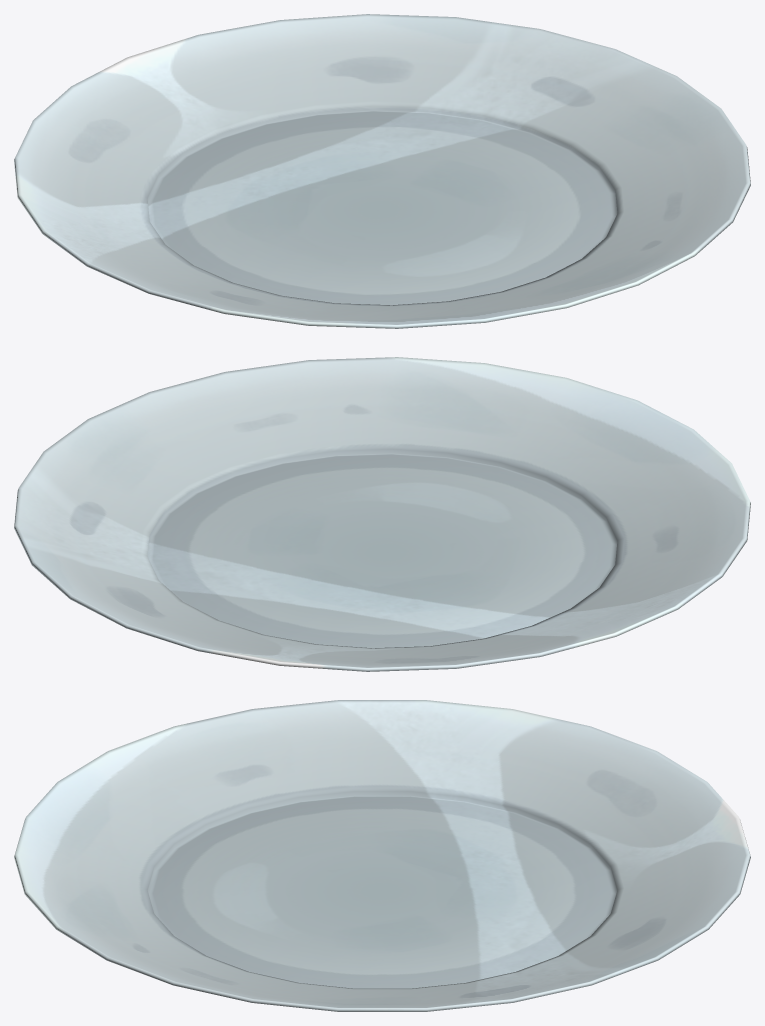
The model's file is PlateLarge.fbx.
3 views of the same model, one above another, from view 1: azimuth 30°, elevation 25°; view 2: azimuth 150°, elevation 25°; view 3: azimuth 270°, elevation 25° (orthographic).
Visible parts, largest first — view 1: PlateLarge; view 2: PlateLarge; view 3: PlateLarge.
Part boxes in pixels (<box>): PlateLarge: <box>14,14,750,328</box>; PlateLarge: <box>14,357,750,671</box>; PlateLarge: <box>14,700,750,1011</box>.
Bounding box in the file's own units: 73.55 × 4.7 × 74.09.
